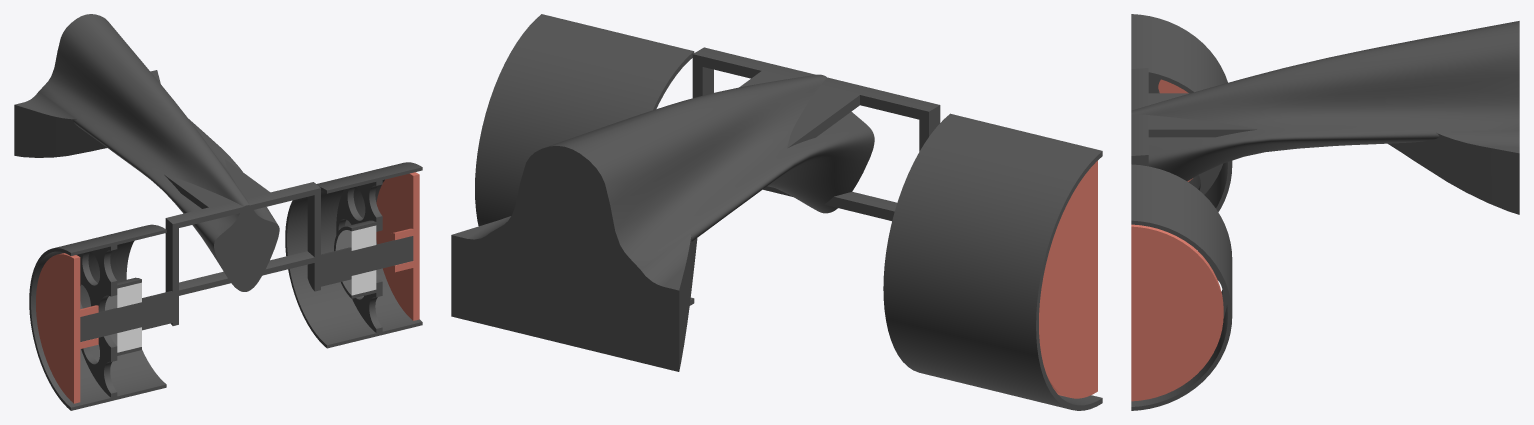
3 views of the same model, side by side, from view 1: azimuth 30°, elevation 25°; view 2: azimuth 150°, elevation 25°; view 3: azimuth 270°, elevation 25° (orthographic). The views are drawn at different scales.
Parts seen in each view (by area): view 1: Nase, Body2_node, Body2, Body1_node_1, Body1_node_0, Body1_node, Body1; view 2: Nase, Body2, Body2_node, Body1_node_1; view 3: Nase, Body1_node_0, Body2_node, Body2.
Part boxes in pixels (x1=…): Nase: x1=14, y1=14, x2=413, y2=341; Body2_node: x1=285, y1=162, x2=422, y2=348; Body2: x1=29, y1=224, x2=166, y2=410; Body1_node_1: x1=36, y1=253, x2=98, y2=403; Body1_node_0: x1=376, y1=172, x2=419, y2=320; Body1_node: x1=335, y1=225, x2=376, y2=295; Body1: x1=105, y1=282, x2=141, y2=352; Nase: x1=451, y1=47, x2=940, y2=371; Body2: x1=883, y1=113, x2=1102, y2=410; Body2_node: x1=475, y1=14, x2=694, y2=305; Body1_node_1: x1=1039, y1=160, x2=1097, y2=398; Nase: x1=1131, y1=21, x2=1519, y2=214; Body1_node_0: x1=1131, y1=224, x2=1223, y2=401; Body2_node: x1=1131, y1=164, x2=1232, y2=410; Body2: x1=1131, y1=14, x2=1232, y2=211.
Size of the model in its own units: 57 by 36.49 by 45.23.
